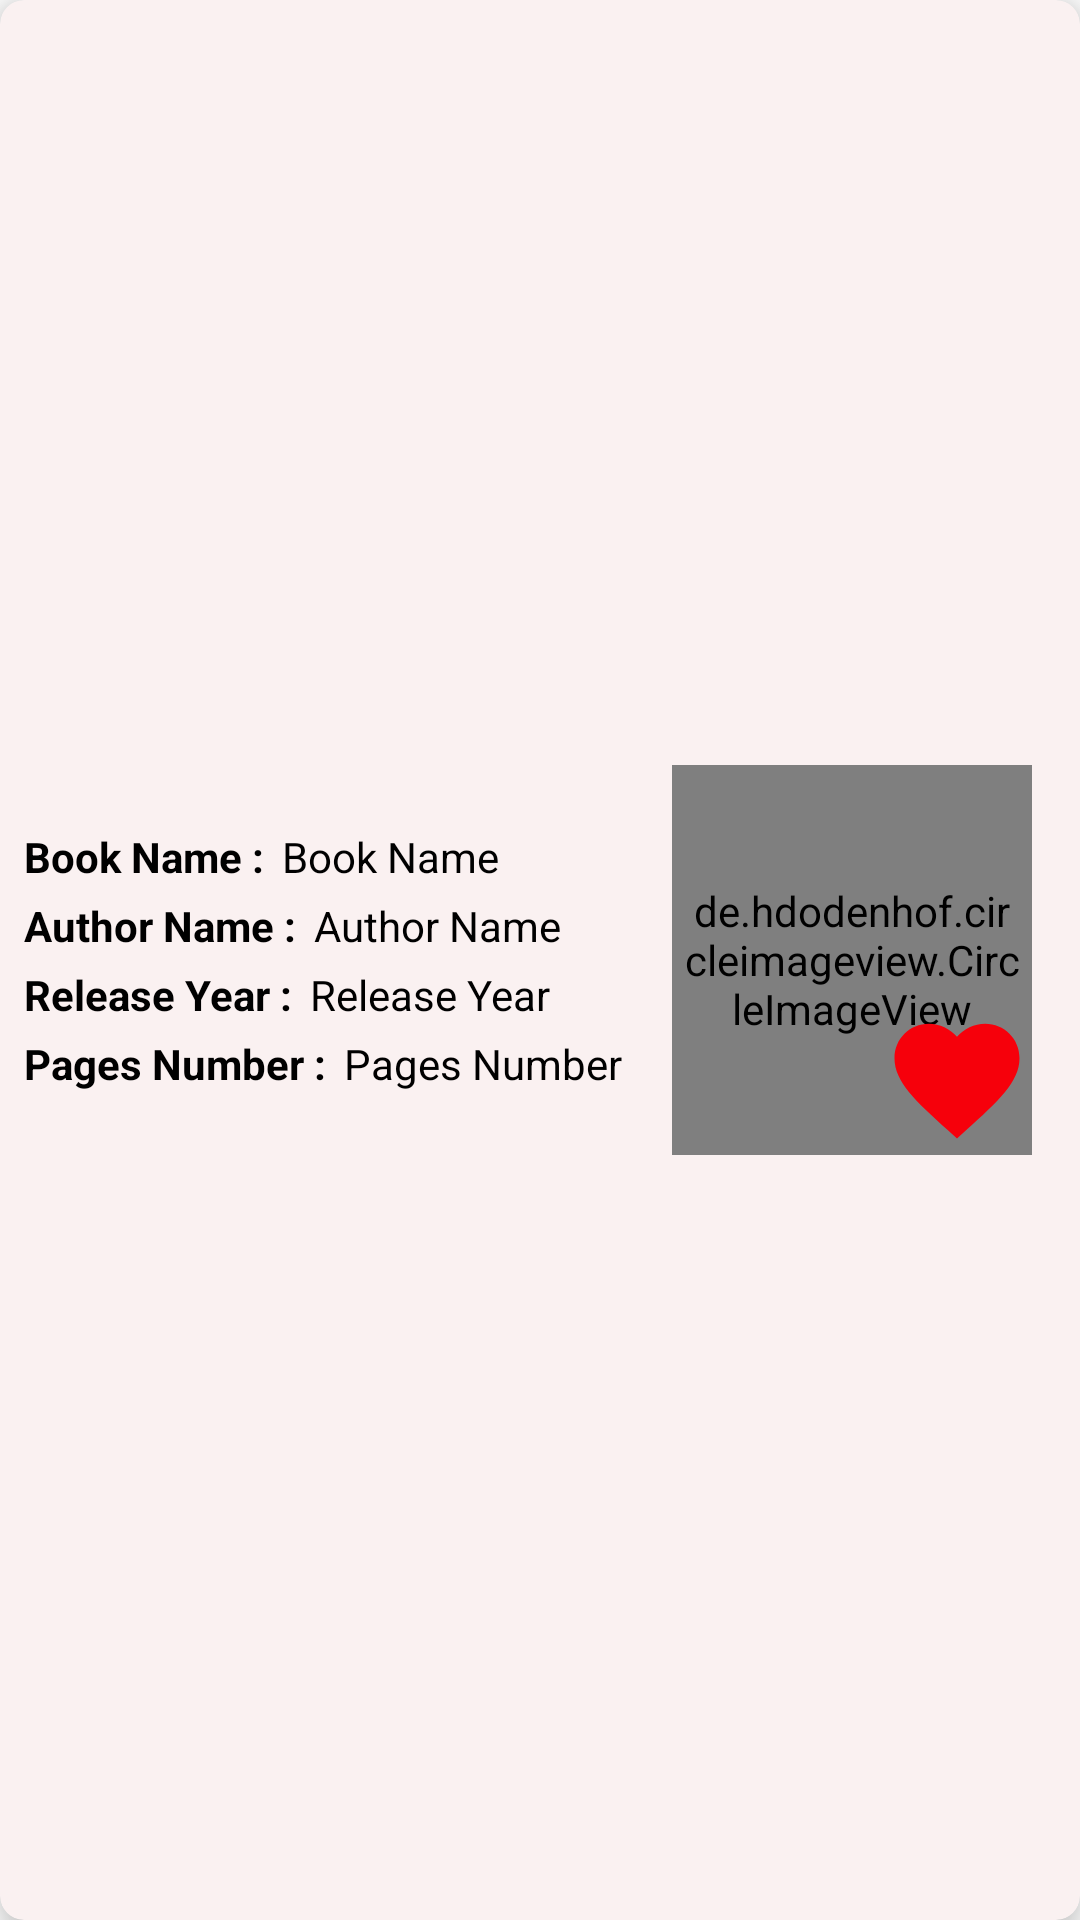

Icons on this 1080w x 1920h Android screen, each with its box as (x1, y1, x2, y2):
favorite: (894, 1005, 1020, 1138)
